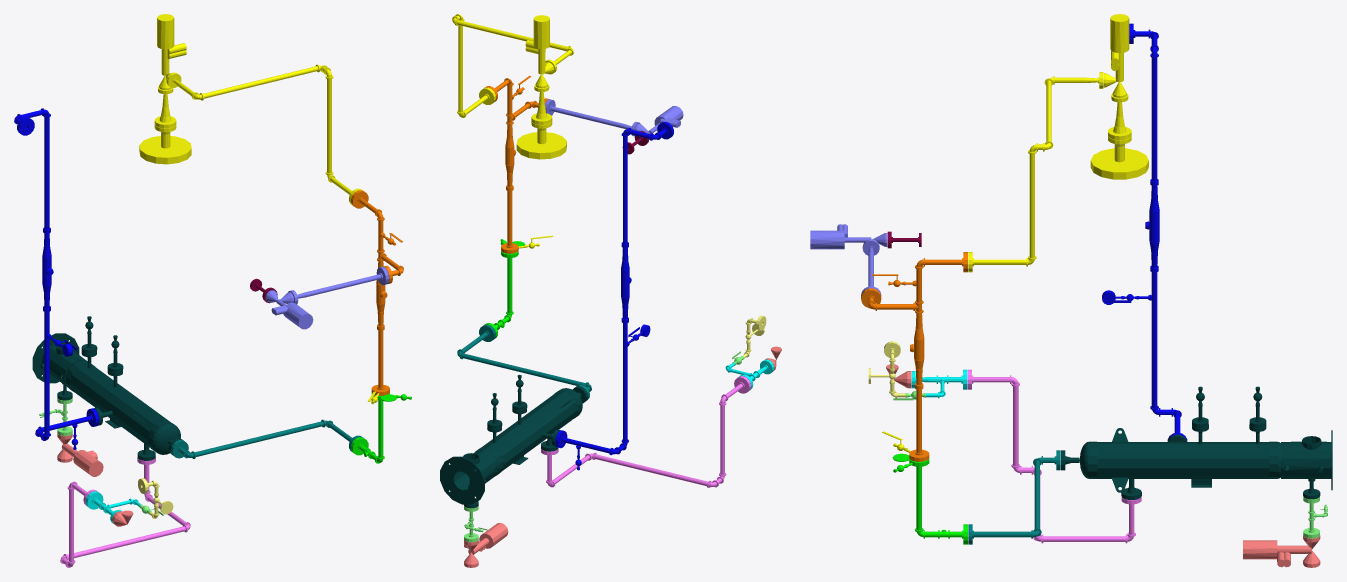
3 views of the same model, side by side, from view 1: azimuth 30°, elevation 25°; view 2: azimuth 150°, elevation 25°; view 3: azimuth 270°, elevation 25° (orthographic). The views are drawn at different scales.
Visible parts, largest first — view 1: 三维立体; view 2: 三维立体; view 3: 三维立体.
Part boxes in pixels (x1,y1,x2,y2): 三维立体: (14,14,411,567); 三维立体: (440,14,781,567); 三维立体: (810,14,1332,567).
Bounding box in the file's own units: 3261 × 5325 × 4551.
